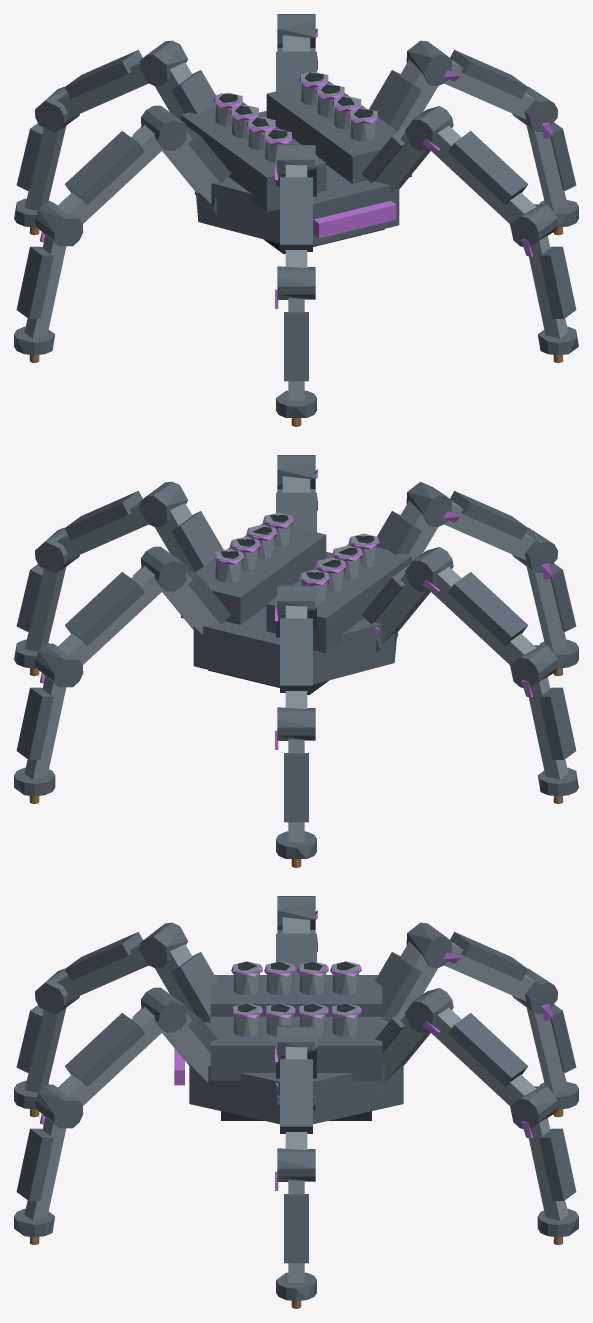
Rendered from heptapod_a6_t2_d0.meshopt.glb.
The picture shows the model from 3 angles, top to bottom: view 1: azimuth 30°, elevation 25°; view 2: azimuth 150°, elevation 25°; view 3: azimuth 270°, elevation 25°; orthographic projection.
Parts seen in each view (by area): view 1: ROOT_ARMOR_GEOMETRY; view 2: ROOT_ARMOR_GEOMETRY; view 3: ROOT_ARMOR_GEOMETRY.
Part boxes in pixels (bbox=[...]): ROOT_ARMOR_GEOMETRY: bbox=[14, 14, 578, 426]; ROOT_ARMOR_GEOMETRY: bbox=[14, 455, 578, 867]; ROOT_ARMOR_GEOMETRY: bbox=[14, 896, 578, 1308].
Size of the model in its own units: 4.7 by 1.74 by 4.11.
